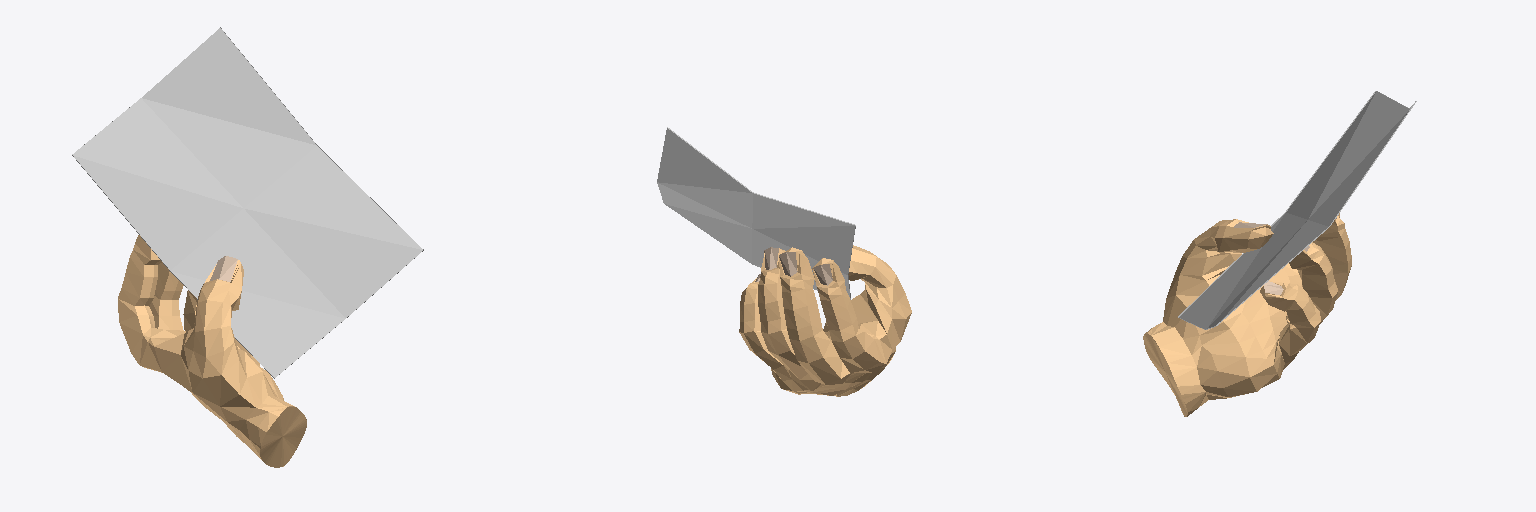
Rendered from paperinstructions_and_hand.obj.
3 views of the same model, side by side, from view 1: azimuth 30°, elevation 25°; view 2: azimuth 150°, elevation 25°; view 3: azimuth 270°, elevation 25° (orthographic).
Parts seen in each view (by area): view 1: Paper, polymsh1; view 2: polymsh1, Paper; view 3: polymsh1, Paper.
Boxes of the visible parts, box(x1,y1,x2,y2) form: Paper: box(72, 27, 423, 378); polymsh1: box(118, 235, 306, 467); polymsh1: box(739, 245, 911, 396); Paper: box(657, 127, 855, 299); polymsh1: box(1143, 213, 1351, 416); Paper: box(1178, 91, 1416, 329).
Bounding box in the file's own units: 333 × 400 × 290.